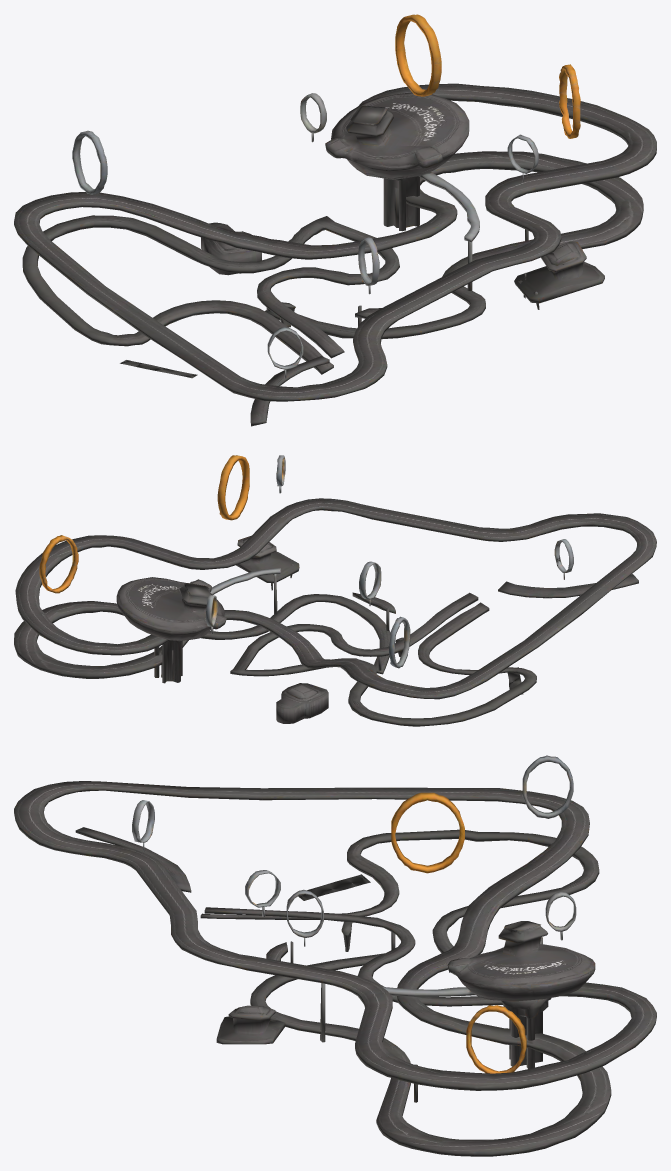
The model's file is airbourne-arena-map-v1.glb.
The picture shows the model from 3 angles, top to bottom: view 1: azimuth 30°, elevation 25°; view 2: azimuth 150°, elevation 25°; view 3: azimuth 270°, elevation 25°; orthographic projection. The views are drawn at different scales.
Visible parts, largest first — view 1: airbourne-arena-map-v1; view 2: airbourne-arena-map-v1; view 3: airbourne-arena-map-v1.
Part boxes in pixels (bbox=[...]): airbourne-arena-map-v1: bbox=[14, 14, 656, 426]; airbourne-arena-map-v1: bbox=[14, 455, 656, 726]; airbourne-arena-map-v1: bbox=[14, 755, 656, 1156].
Size of the model in its own units: 3600 by 1486 by 3375.
Materials: 1 (1 with a texture image).
